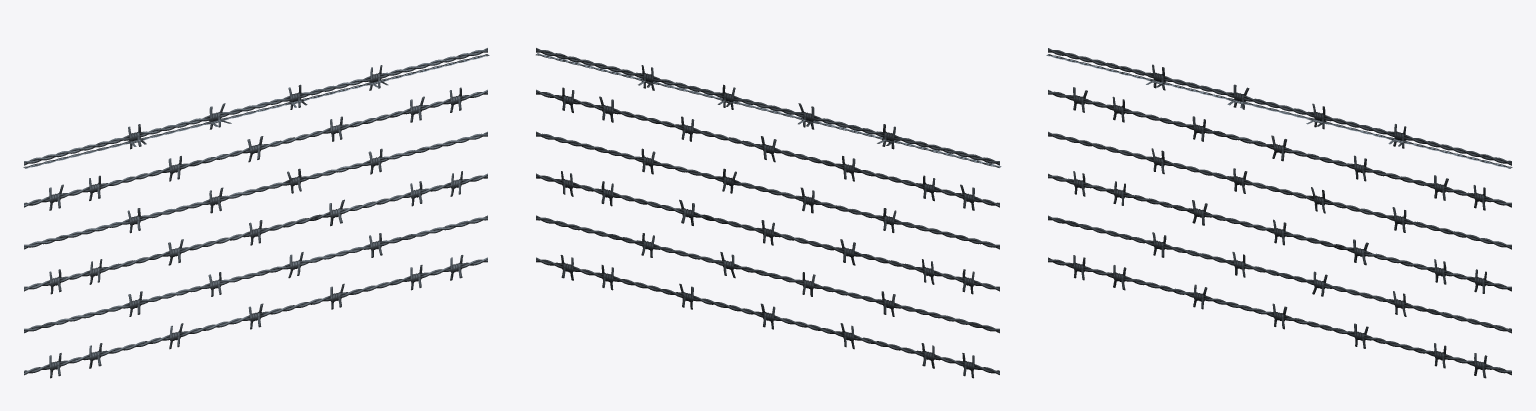
Rendered from fence.FBX.
3 views of the same model, side by side, from view 1: azimuth 30°, elevation 25°; view 2: azimuth 150°, elevation 25°; view 3: azimuth 330°, elevation 25° (orthographic).
Visible parts, largest first — view 1: fence; view 2: fence; view 3: fence.
Boxes of the visible parts, x1=… form: fence: x1=23, y1=48, x2=489, y2=378; fence: x1=536, y1=48, x2=1001, y2=378; fence: x1=1046, y1=48, x2=1512, y2=378.
Size of the model in its own units: 180 by 100 by 12.8.
